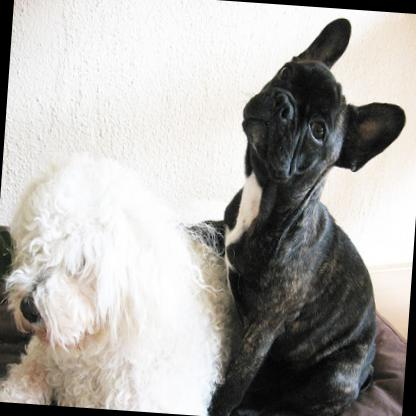French_bulldog: (169, 3, 414, 416)
